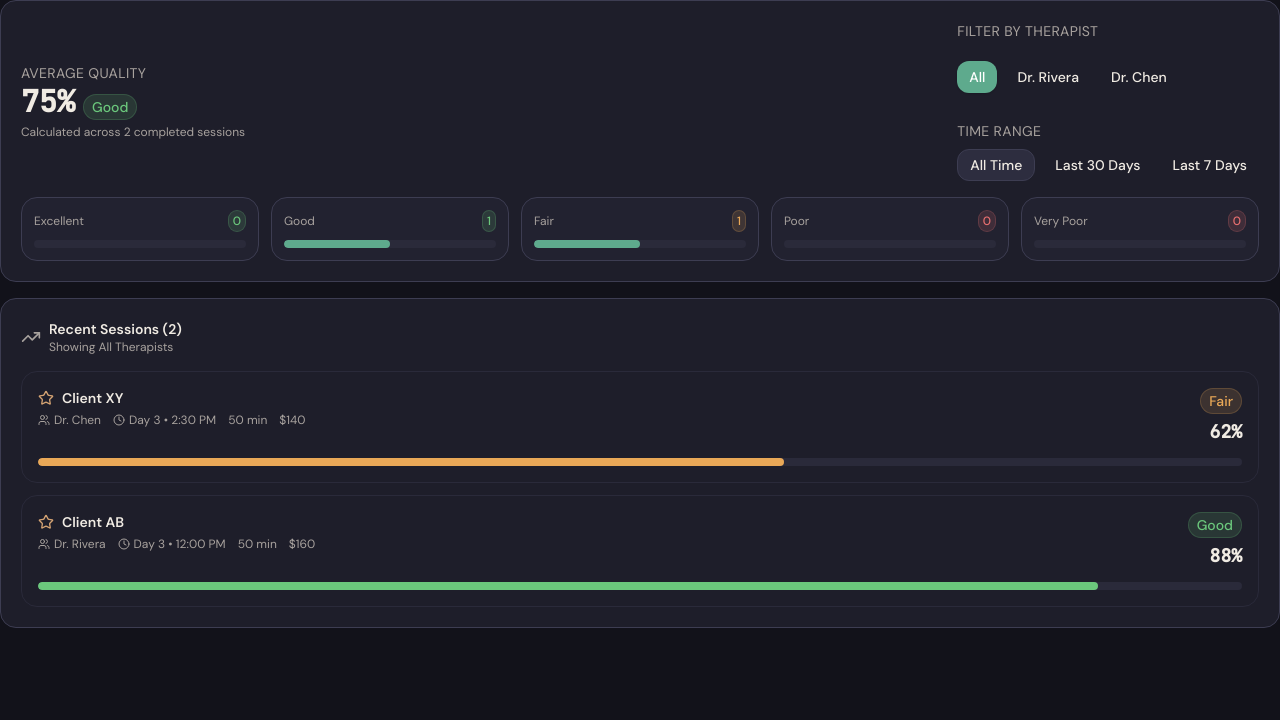
SessionHistoryPanel › therapist filtering › filters sessions by therapist selection
This screenshot has width=1280, height=720.
Click the button "Dr. Chen".
click(1139, 77)  # box [1099,61,1179,93]
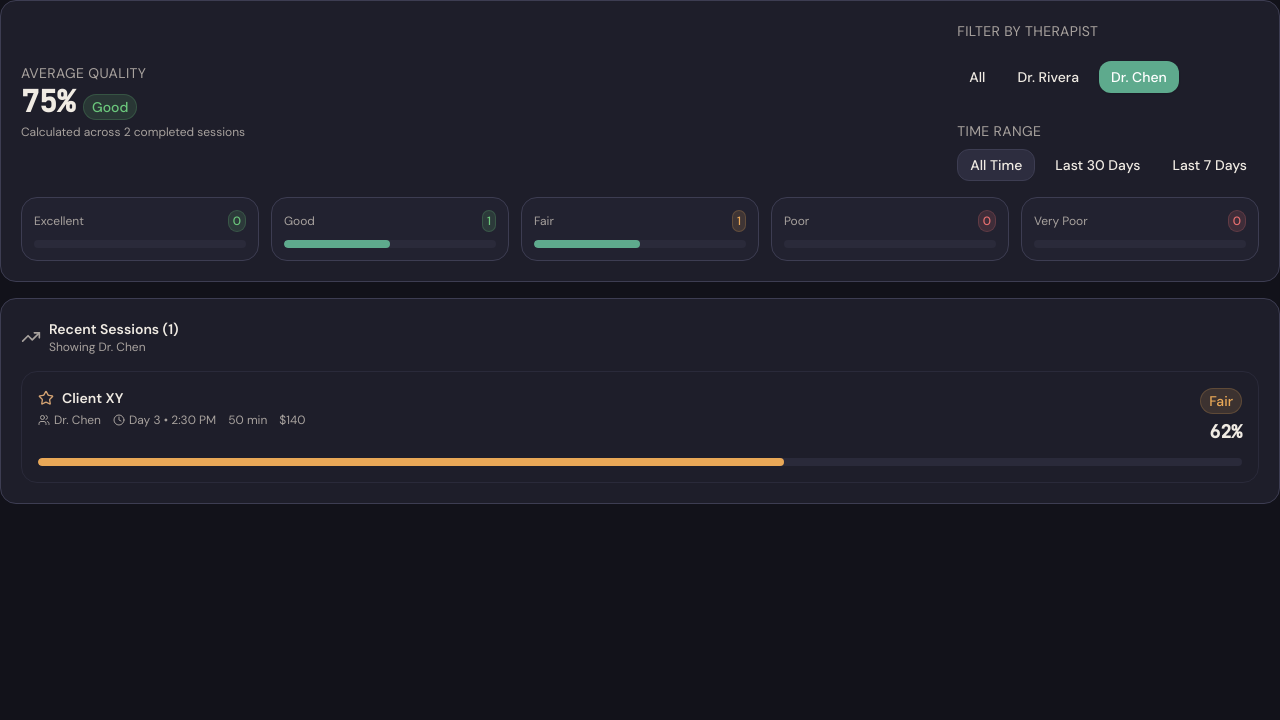
Expected: the text "Client XY" is shown, [62,388,123,408]
Expected: the text "Client AB" is gone
